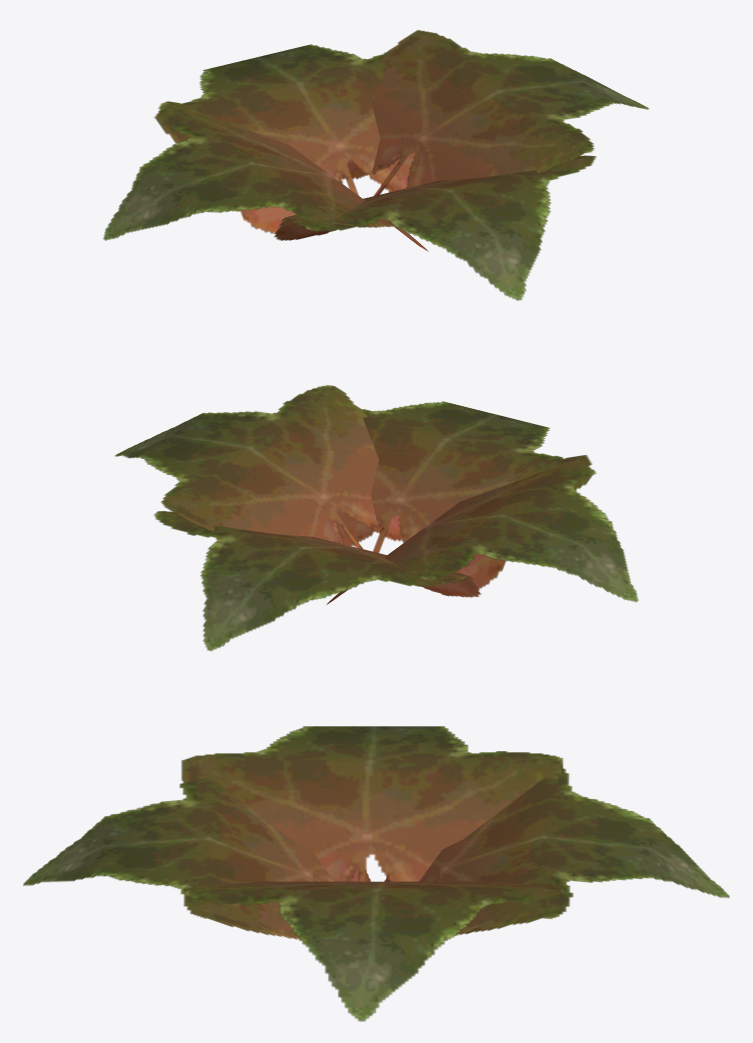
Rendered from bush70.glb.
3 views of the same model, one above another, from view 1: azimuth 30°, elevation 25°; view 2: azimuth 150°, elevation 25°; view 3: azimuth 270°, elevation 25° (orthographic). The views are drawn at different scales.
Visible parts, largest first — view 1: bush70; view 2: bush70; view 3: bush70.
Boxes of the visible parts, left/top/right/bottom form: bush70: left=103, top=30, right=648, bottom=300; bush70: left=115, top=385, right=638, bottom=650; bush70: left=23, top=726, right=729, bottom=1021.
Bounding box in the file's own units: 1.03 × 0.1885 × 1.05.
1 material, 1 textured.
